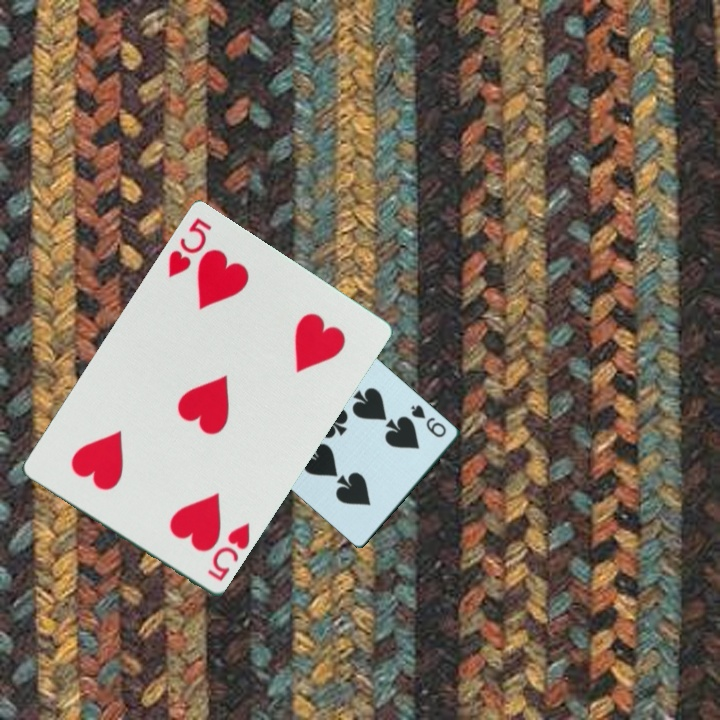5h: (164, 215, 215, 282), (204, 519, 254, 585)
9s: (407, 401, 450, 440)
